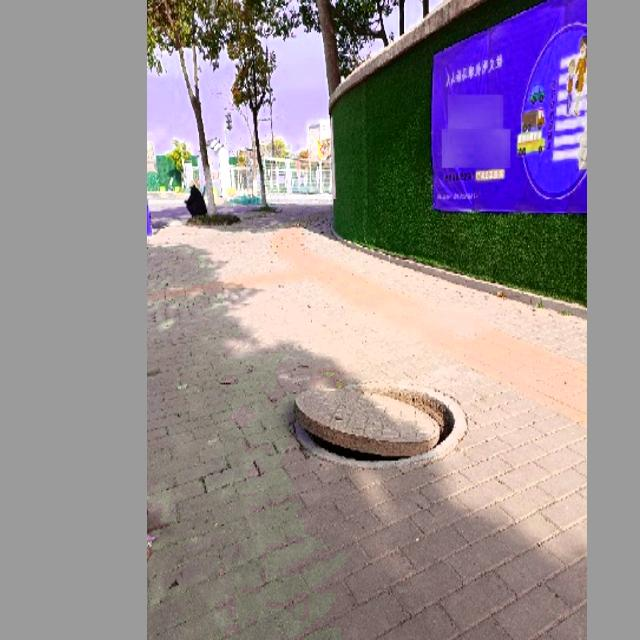uncovered: (293, 385, 468, 468)
